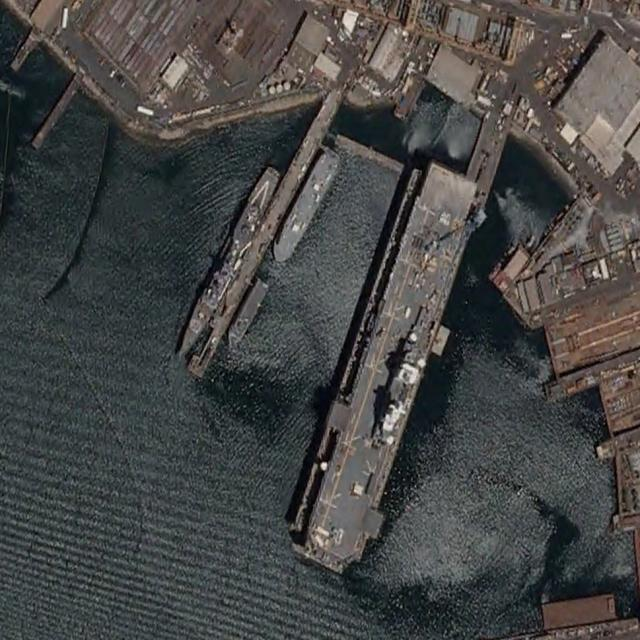Landing: (289, 152, 492, 581)
Other Ship: (267, 145, 343, 269)
Other Warship: (170, 162, 284, 367)
